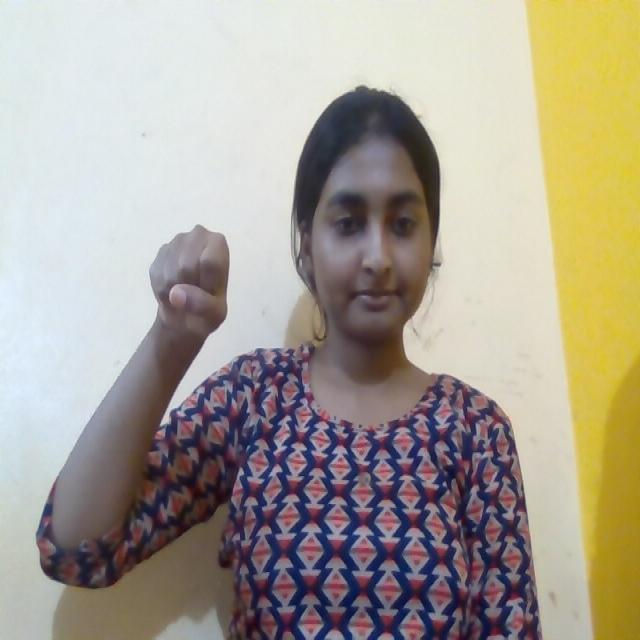Yes: (128, 213, 246, 352)
